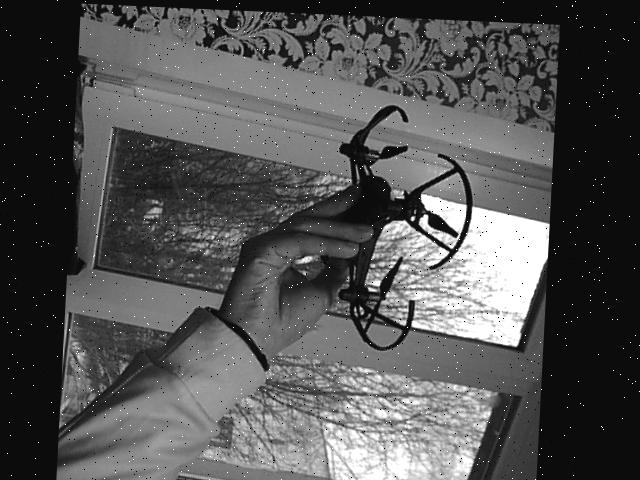drone: (290, 89, 483, 350)
